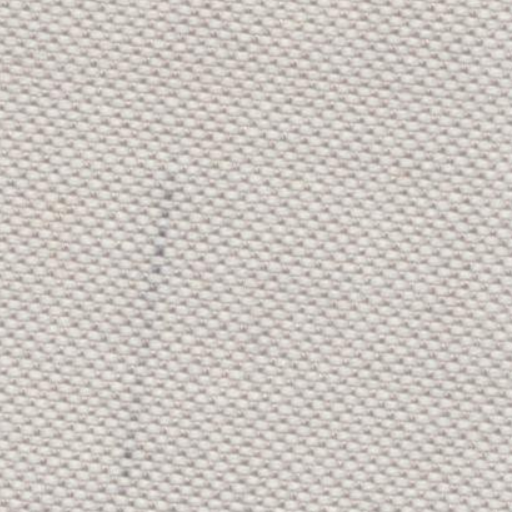WuZi: (108, 152, 180, 490)
